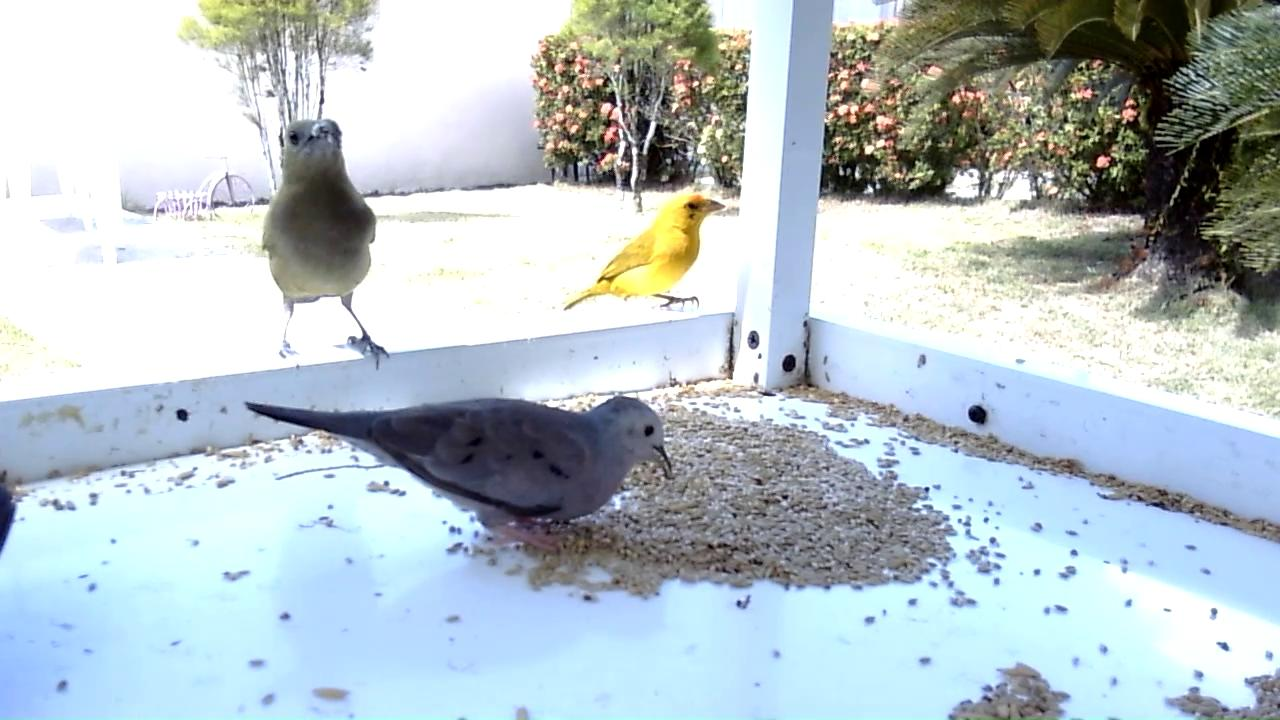canario_do_amazonas: (561, 194, 728, 315)
rolinha: (244, 393, 678, 553)
sanhaco_do_coqueiro: (261, 119, 393, 371)
